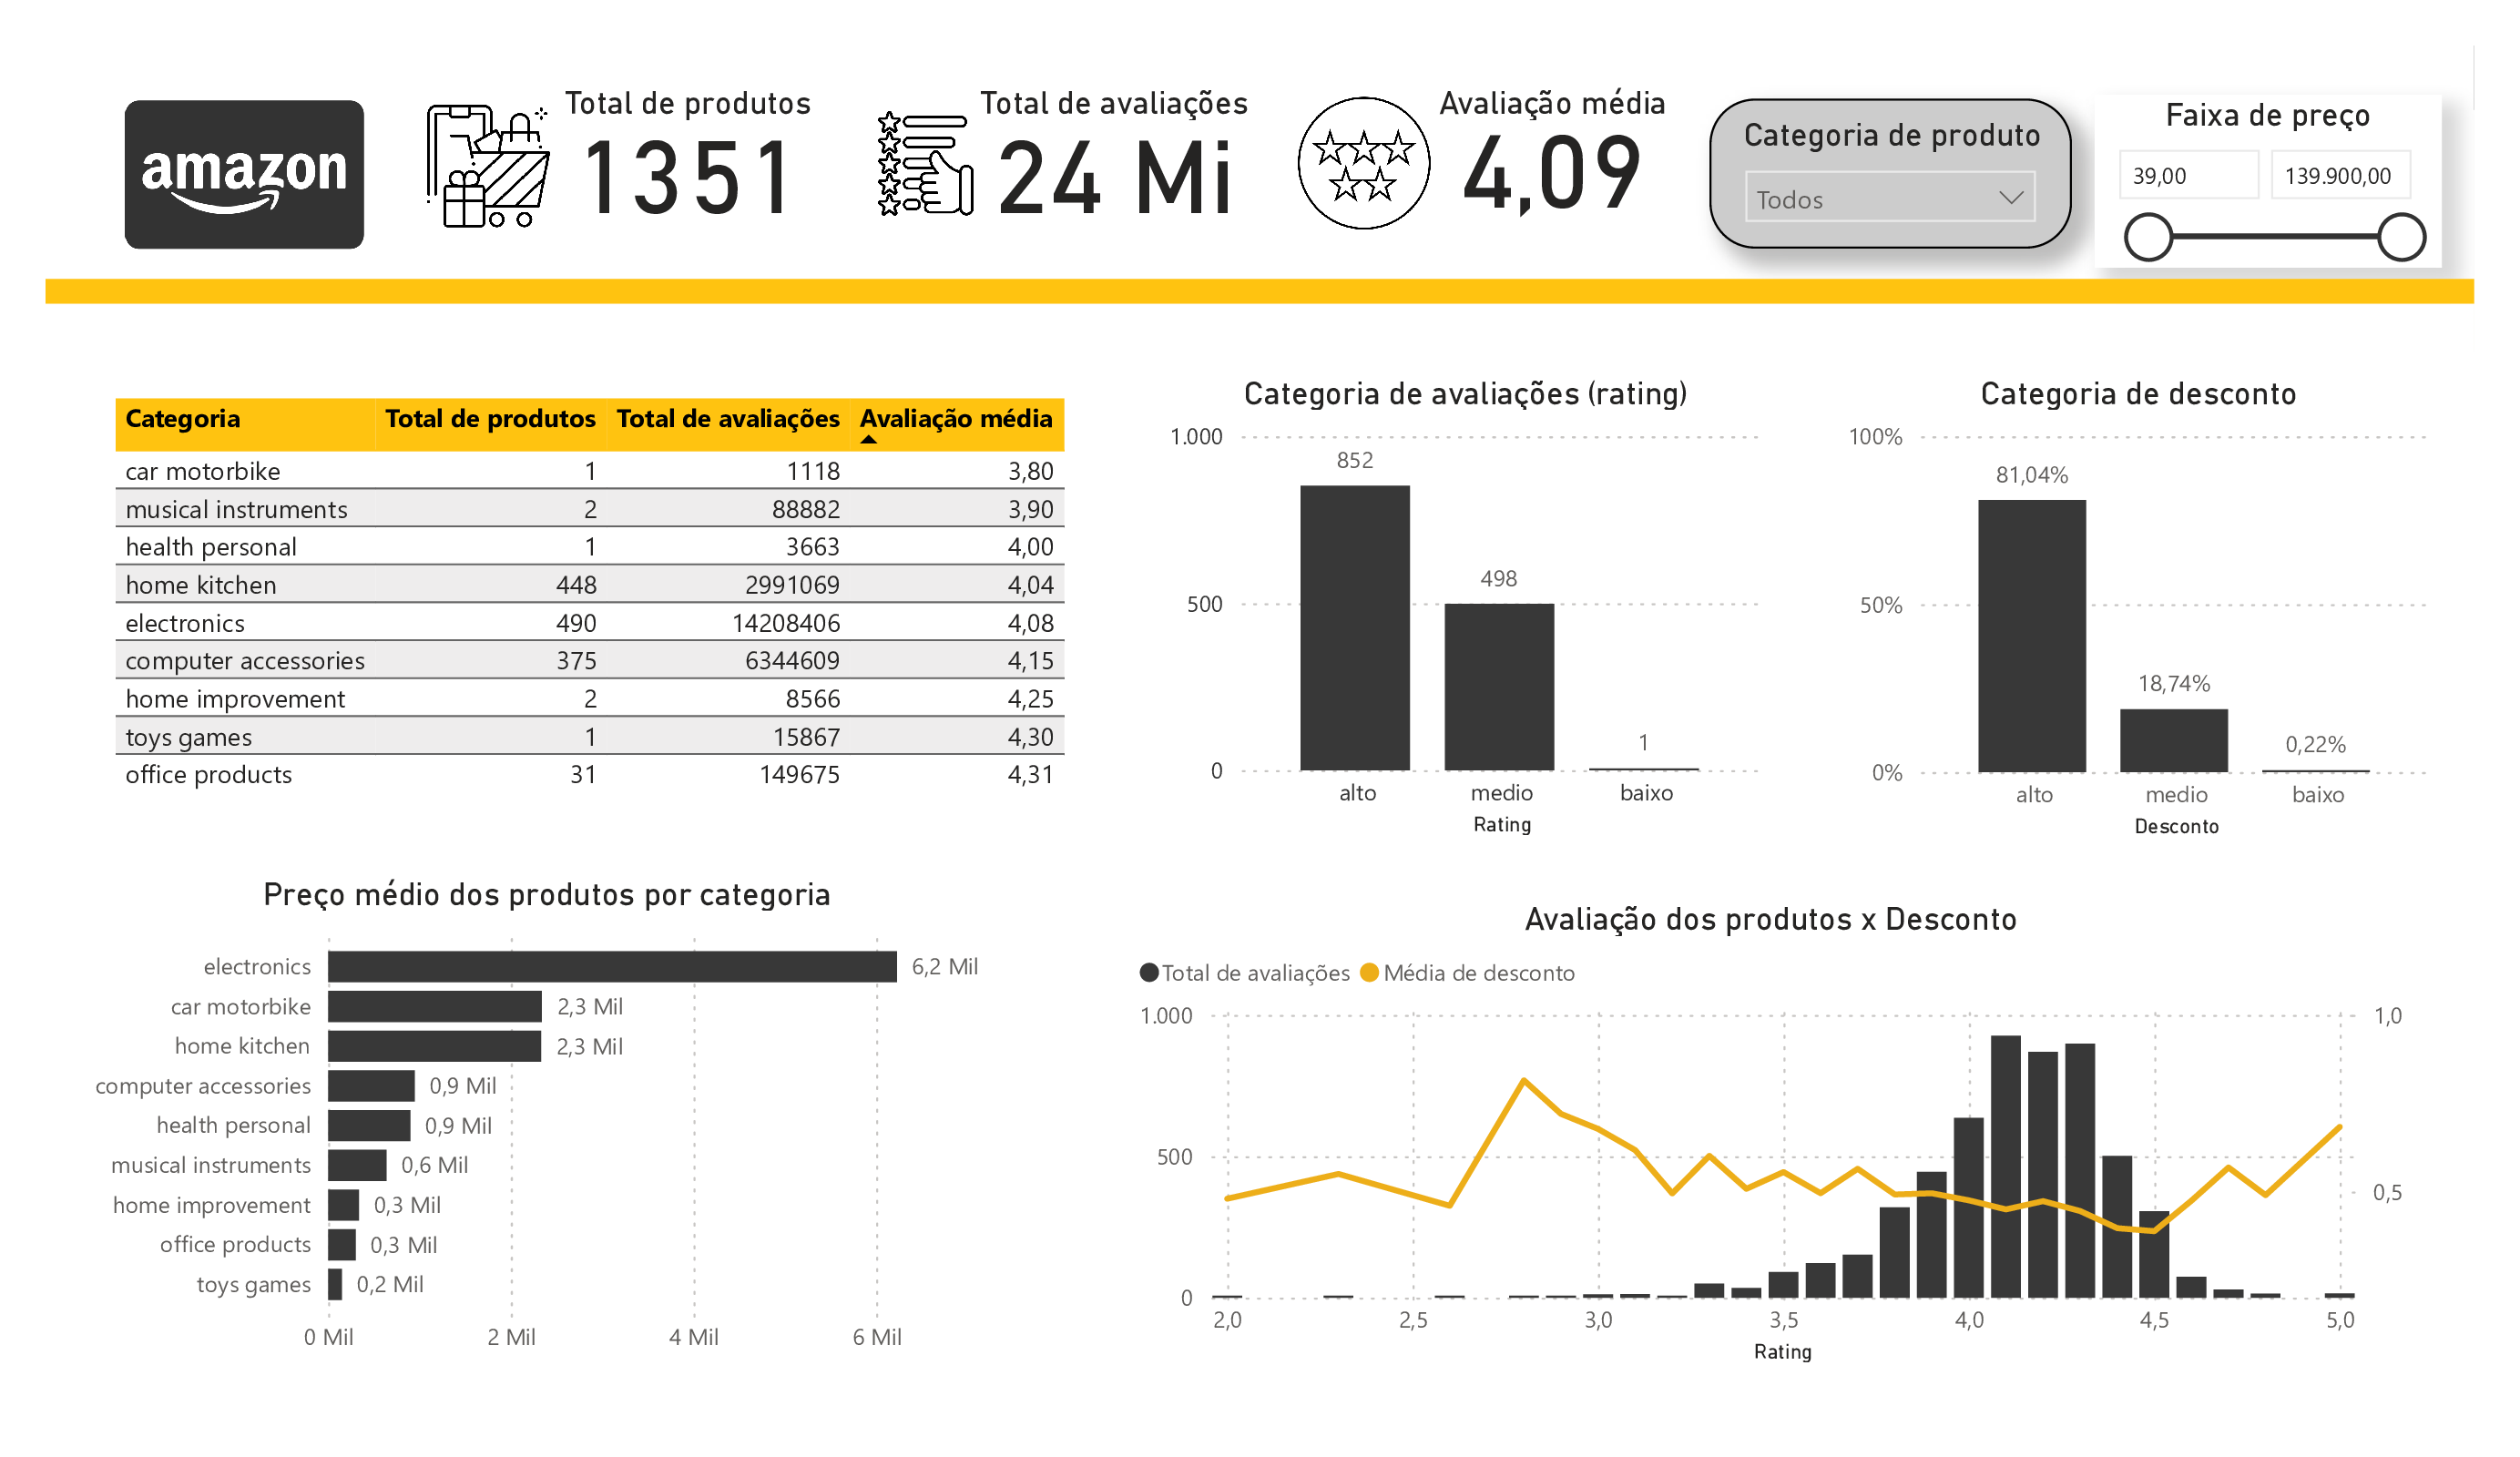

Layout of this report page (visuals, bound fields, positions):
{"tool":"powerbi","page":{"name":"Página 1","canvas":[1280,720],"ordinal":0},"visuals":[{"type":"card","title":"Total de produtos","fields":{"Values":["CountNonNull(amazon_final.product_id)"]},"box":[264.9,26.3,140.5,80.5],"z":0},{"type":"card","title":"Total de avaliações","fields":{"Values":["Sum(amazon_final.rating_count)"]},"box":[485.9,20.5,155.1,86.3],"z":1000},{"type":"card","title":"Avaliação média","fields":{"Values":["Avg(amazon_final.rating)"]},"box":[724.4,20.5,140.5,80.5],"z":2000},{"type":"slicer","title":"Categoria de produto","fields":{"Values":["amazon_final.category"]},"box":[876.6,27.8,191.7,79],"z":3000},{"type":"slicer","title":"Faixa de preço","fields":{"Values":["amazon_final.actual_price"]},"box":[1080,26.3,182.9,90.7],"z":4000},{"type":"columnChart","title":"Categoria de avaliações (rating)","fields":{"Category":["amazon_final.rating_seg"],"Y":["Count(amazon_final.product_id)"]},"box":[586.8,172.7,323.4,248.8],"z":5000},{"type":"columnChart","title":"Categoria de desconto","fields":{"Category":["amazon_final.discount_seg"],"Y":["Sum(amazon_final.discount_percentage)"]},"box":[944,173,319.2,248.6],"z":6000},{"type":"tableEx","fields":{"Values":["amazon_final.category","CountNonNull(amazon_final.category)","Sum(amazon_final.rating_count)","Avg(amazon_final.rating)"]},"box":[30.7,181.5,515.1,229.8],"z":7000},{"type":"clusteredBarChart","title":"Preço médio dos produtos por categoria","fields":{"Category":["amazon_final.category"],"Y":["Avg(amazon_final.discounted_price)"]},"box":[13.4,436.7,502.3,262],"z":8000},{"type":"lineClusteredColumnComboChart","title":"Avaliação dos produtos x Desconto","fields":{"Category":["amazon_final.rating"],"Y":["Sum(amazon_final.rating)"],"Y2":["Avg(amazon_final.discount_percentage)"]},"box":[571.1,450.2,677,248.6],"z":9000},{"type":"image","box":[430.2,22,67.3,79],"z":10000},{"type":"image","box":[641,24.9,83.4,83.4],"z":11000},{"type":"image","box":[191.7,26.3,83.4,74.6],"z":12000},{"type":"image","box":[0,0,209.3,136.1],"z":13000},{"type":"shape","box":[0,122.9,1280.5,13.2],"z":14000}]}

Visuals, with their boxes on the page's 1280x720 design canvas (x1, y1, x2, y2). These are canvas units, not pixel positions in the 2520x1457 screenshot, which may show the page scaled, cropped or inside an application window:
"Total de produtos" card: box=[265, 26, 405, 107]
"Total de avaliações" card: box=[486, 20, 641, 107]
"Avaliação média" card: box=[724, 20, 865, 101]
"Categoria de produto" slicer: box=[877, 28, 1068, 107]
"Faixa de preço" slicer: box=[1080, 26, 1263, 117]
"Categoria de avaliações (rating)" columnChart: box=[587, 173, 910, 422]
"Categoria de desconto" columnChart: box=[944, 173, 1263, 422]
tableEx - amazon_final.category x CountNonNull(amazon_final.category): box=[31, 182, 546, 411]
"Preço médio dos produtos por categoria" clusteredBarChart: box=[13, 437, 516, 699]
"Avaliação dos produtos x Desconto" lineClusteredColumnComboChart: box=[571, 450, 1248, 699]
image: box=[430, 22, 498, 101]
image: box=[641, 25, 724, 108]
image: box=[192, 26, 275, 101]
image: box=[0, 0, 209, 136]
shape: box=[0, 123, 1280, 136]
